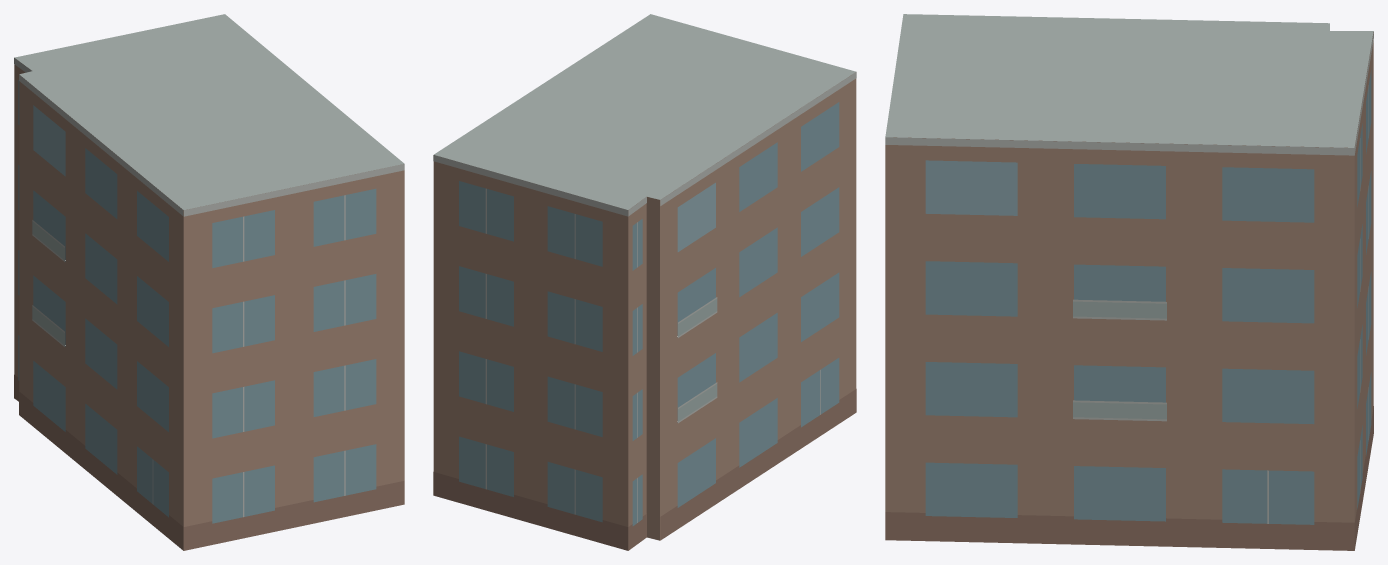
The model's file is survey-upis-32850263.glb.
The picture shows the model from 3 angles, left to right: view 1: azimuth 30°, elevation 25°; view 2: azimuth 150°, elevation 25°; view 3: azimuth 270°, elevation 25°; orthographic projection. The views are drawn at different scales.
Parts seen in each view (by area): view 1: survey-upis-32850263.tmp; view 2: survey-upis-32850263.tmp; view 3: survey-upis-32850263.tmp.
Boxes of the visible parts, x1=… form: survey-upis-32850263.tmp: x1=14, y1=14, x2=404, y2=550; survey-upis-32850263.tmp: x1=433, y1=14, x2=856, y2=550; survey-upis-32850263.tmp: x1=885, y1=14, x2=1373, y2=550.
Bounding box in the file's own units: 9.13 × 12.8 × 14.07.
